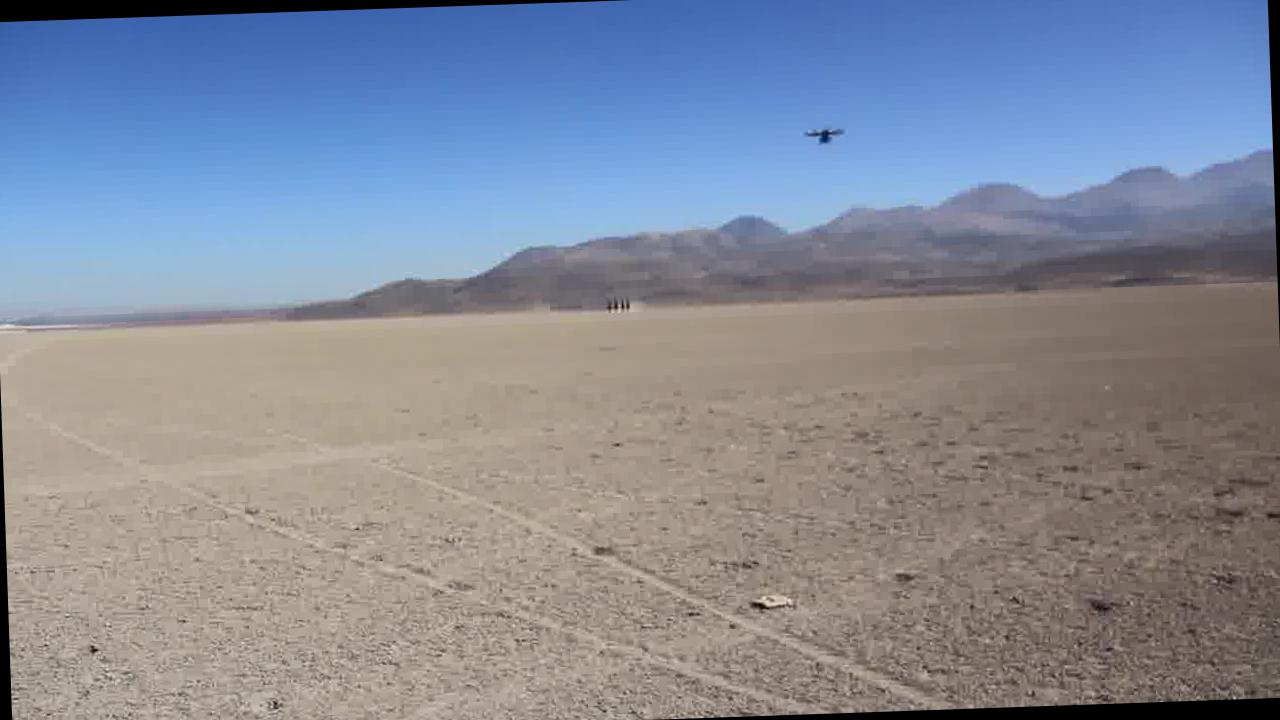drone: (800, 117, 849, 146)
